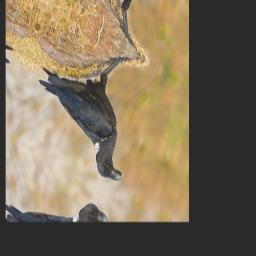Crow: (24, 14, 155, 188)
